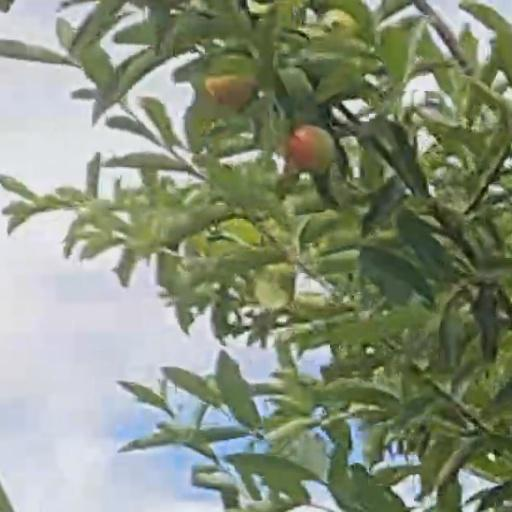acerola_vermelha: (290, 127, 334, 172), (210, 73, 255, 105)
